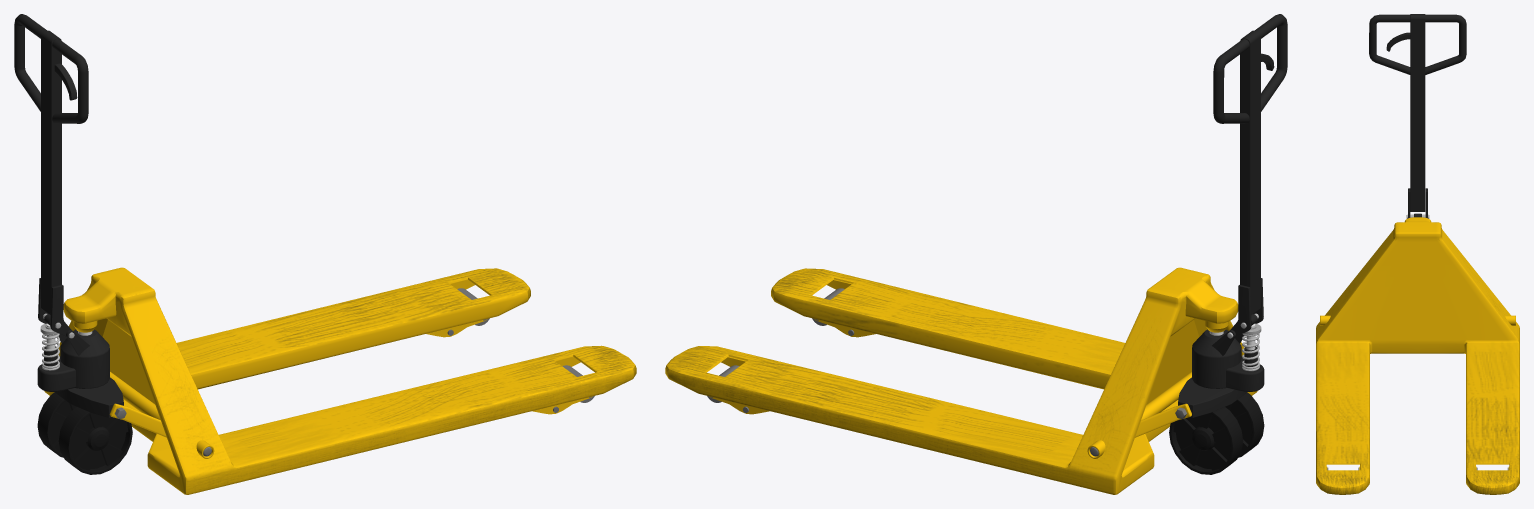
The model's file is pallet-jack.glb.
3 views of the same model, side by side, from view 1: azimuth 30°, elevation 25°; view 2: azimuth 150°, elevation 25°; view 3: azimuth 270°, elevation 25° (orthographic). The views are drawn at different scales.
Visible parts, largest first — view 1: pCube3, polySurface44, polySurface52, polySurface32, pCube4, polySurface78, polySurface47, polySurface81, polySurface1, polySurface36, pCube5, polySurface38; view 2: pCube3, polySurface44, polySurface78, polySurface32, pCube4, polySurface81, polySurface52, polySurface47, polySurface1, polySurface36, pCube20, polySurface80; view 3: pCube3, polySurface44, polySurface47, polySurface81.
Part boxes in pixels (bbox=[...]): pCube3: bbox=[44, 267, 636, 494]; polySurface44: bbox=[41, 30, 61, 314]; polySurface52: bbox=[58, 407, 132, 474]; polySurface32: bbox=[60, 329, 109, 388]; pCube4: bbox=[55, 356, 123, 417]; polySurface78: bbox=[37, 392, 76, 457]; polySurface47: bbox=[52, 39, 88, 123]; polySurface81: bbox=[14, 14, 46, 111]; polySurface1: bbox=[110, 372, 214, 458]; polySurface36: bbox=[37, 359, 75, 391]; pCube5: bbox=[109, 403, 166, 437]; polySurface38: bbox=[50, 285, 71, 336]; pCube3: bbox=[665, 267, 1257, 494]; polySurface44: bbox=[1240, 30, 1260, 314]; polySurface78: bbox=[1169, 407, 1243, 474]; polySurface32: bbox=[1192, 329, 1241, 388]; pCube4: bbox=[1178, 356, 1246, 417]; polySurface81: bbox=[1213, 39, 1249, 123]; polySurface52: bbox=[1225, 392, 1264, 457]; polySurface47: bbox=[1255, 14, 1287, 111]; polySurface1: bbox=[1087, 371, 1191, 458]; polySurface36: bbox=[1226, 358, 1264, 391]; pCube20: bbox=[1135, 403, 1191, 437]; polySurface80: bbox=[1230, 285, 1251, 336]; pCube3: bbox=[1316, 217, 1519, 494]; polySurface44: bbox=[1410, 14, 1425, 211]; polySurface47: bbox=[1369, 14, 1410, 74]; polySurface81: bbox=[1425, 14, 1466, 74].
Bounding box in the file's own units: 5.13 × 3.99 × 2.38.
Materials: 6 (1 with a texture image).
